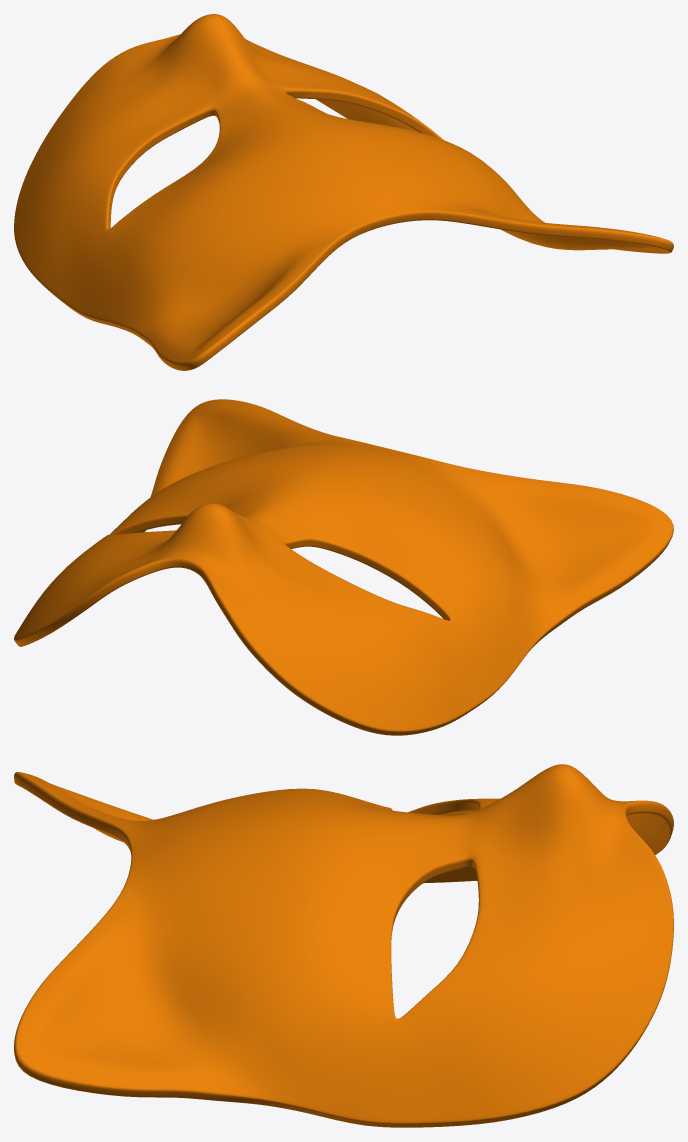
The model's file is face_mask2.gltf.
3 views of the same model, one above another, from view 1: azimuth 30°, elevation 25°; view 2: azimuth 150°, elevation 25°; view 3: azimuth 270°, elevation 25° (orthographic). The views are drawn at different scales.
Visible parts, largest first — view 1: Mask; view 2: Mask; view 3: Mask.
Part boxes in pixels (left/top/right/bottom): Mask: left=14, top=14, right=673, bottom=370; Mask: left=14, top=399, right=673, bottom=735; Mask: left=14, top=764, right=673, bottom=1127.
Bounding box in the file's own units: 0.3724 × 0.1428 × 0.3583.
